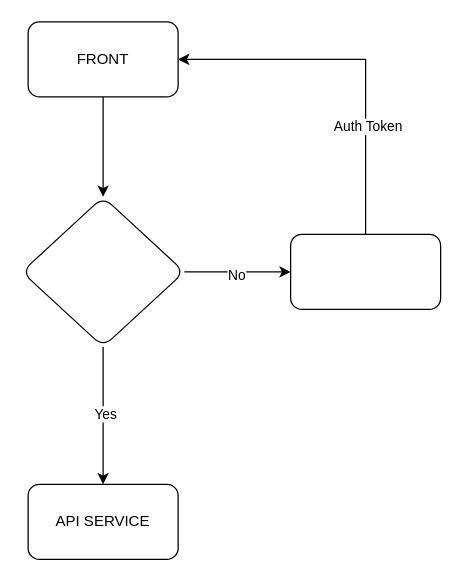
The diagram is 463 pixels wide and 581 high, and some of its shapes have lost their labels. Each missing label, with the centre of its shape:
"AUTH SERVICE" belongs at point (365, 271).
"Is Authenticated?" belongs at point (102, 271).
